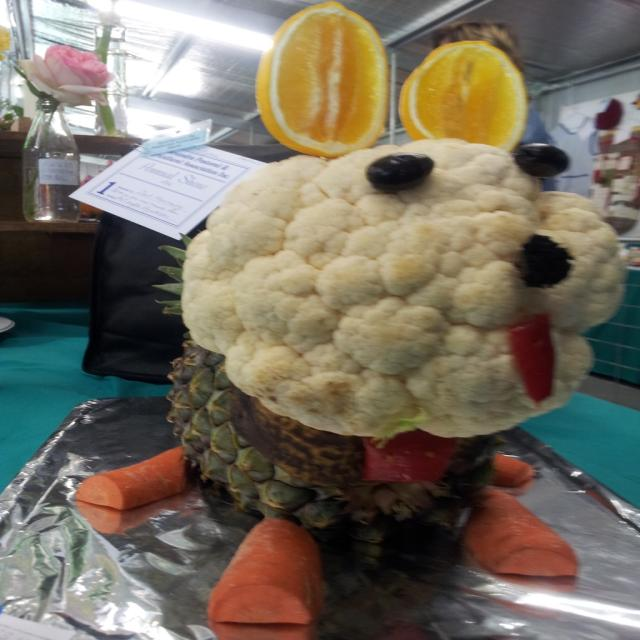Lemon: (255, 4, 384, 162)
